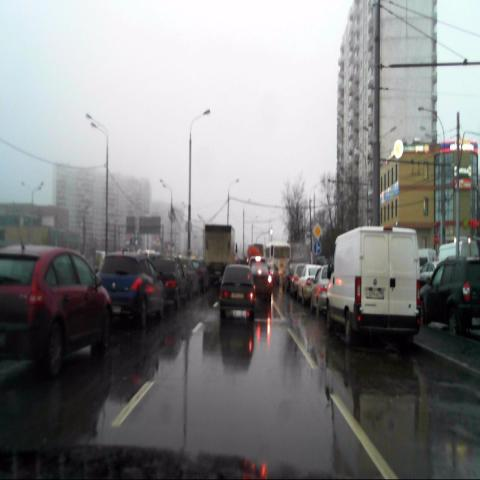2_1: (313, 223, 321, 239)
4_1_4: (313, 241, 321, 254)
